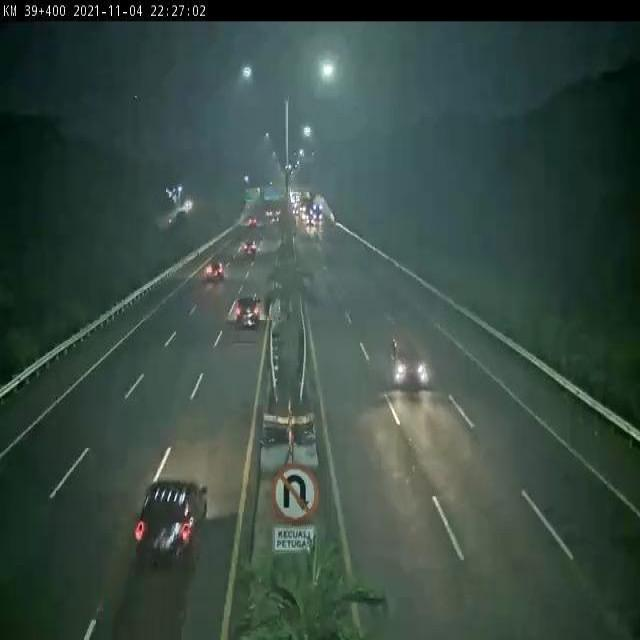car: (134, 475, 211, 565), (391, 333, 432, 391), (233, 293, 264, 327), (204, 258, 226, 282)
